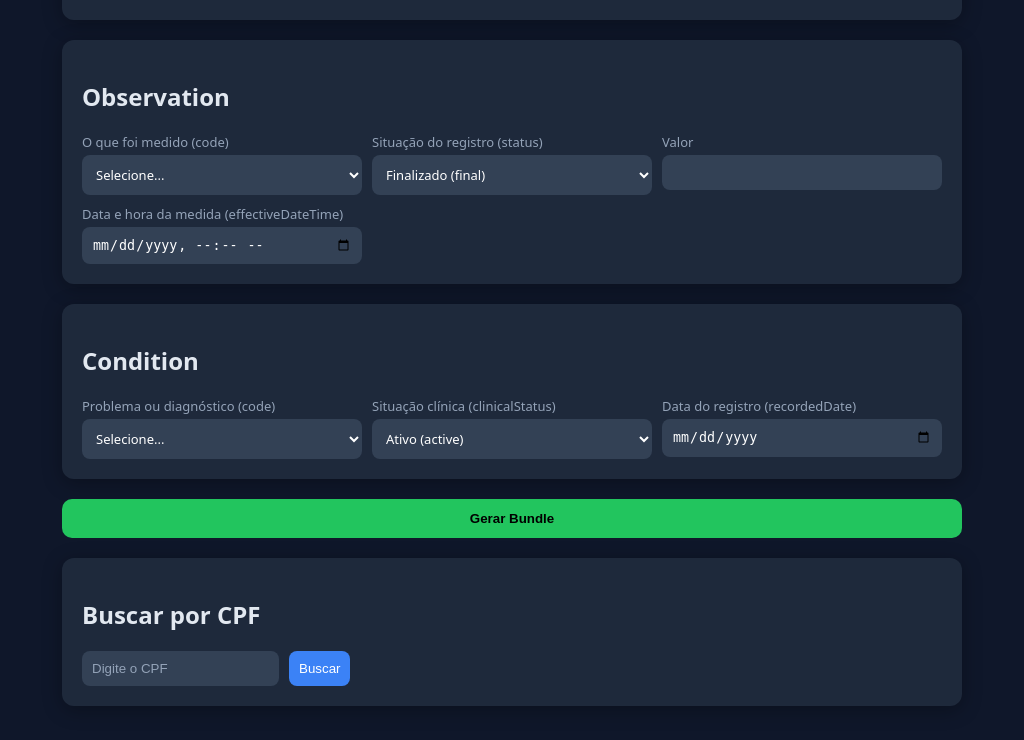
Test: JSON válido mostra a confirmação nos três níveis
(page scrolled)
Click the button "Gerar Bundle" at [512, 519], box [62,499,962,538]
(page scrolled)
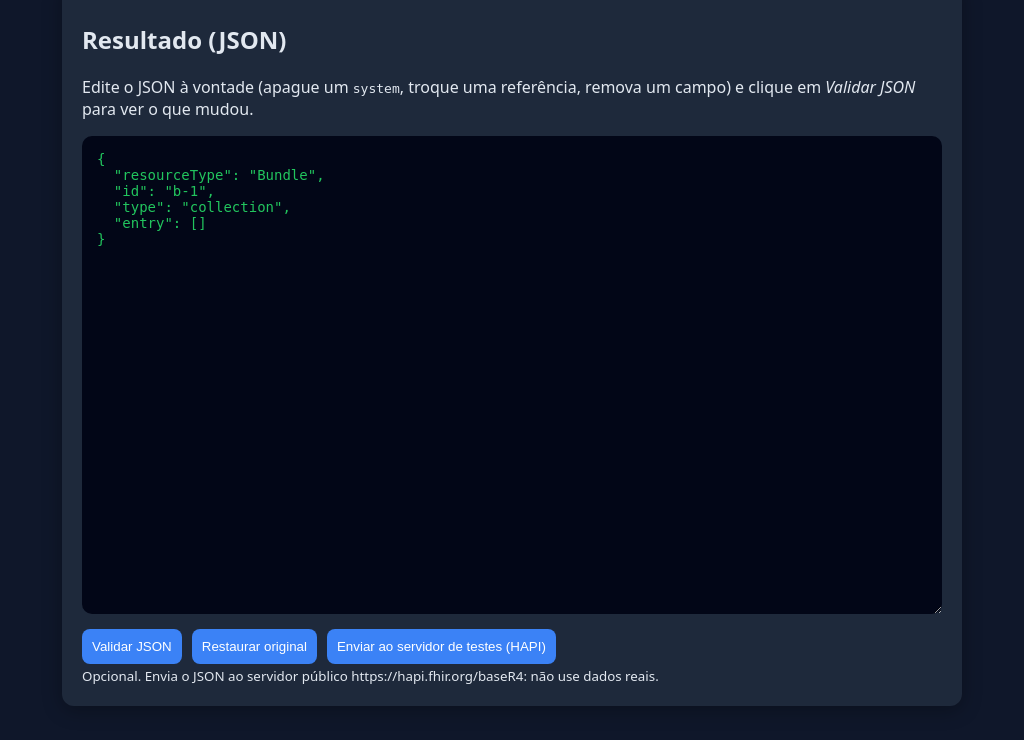
Expected: the heading "Resultado (JSON)" is shown, [82,23,286,56]
Click the button "Validar JSON" at [132, 646], box [82,629,182,664]
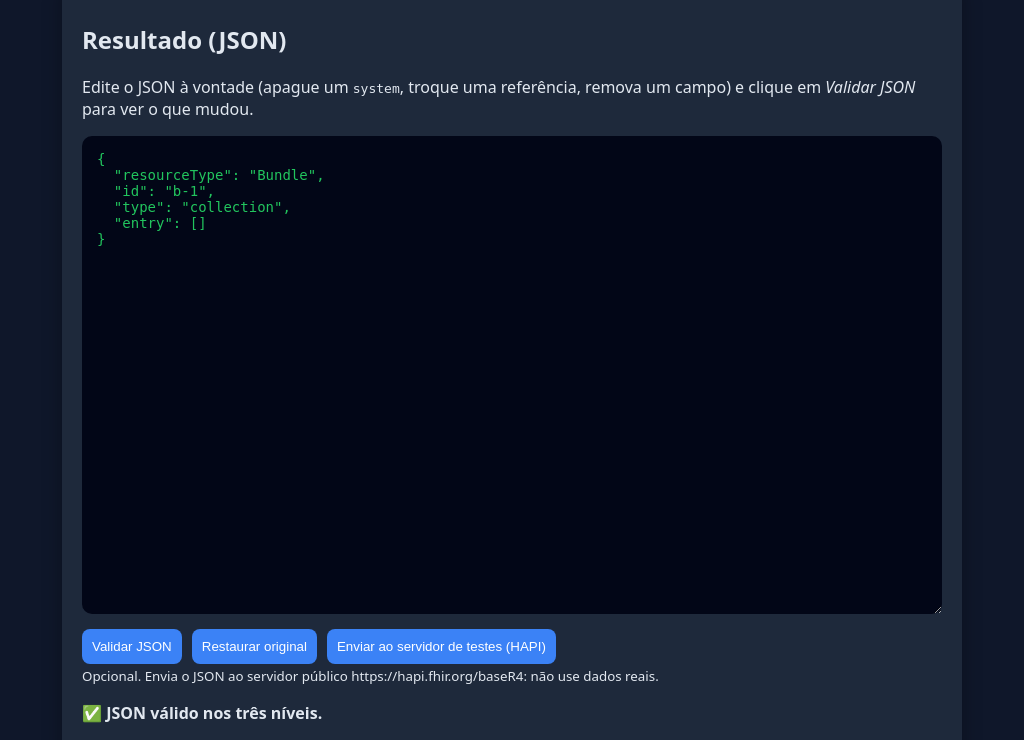
Expected: the text "✅ JSON válido nos três níveis." is shown, [82,702,322,724]
